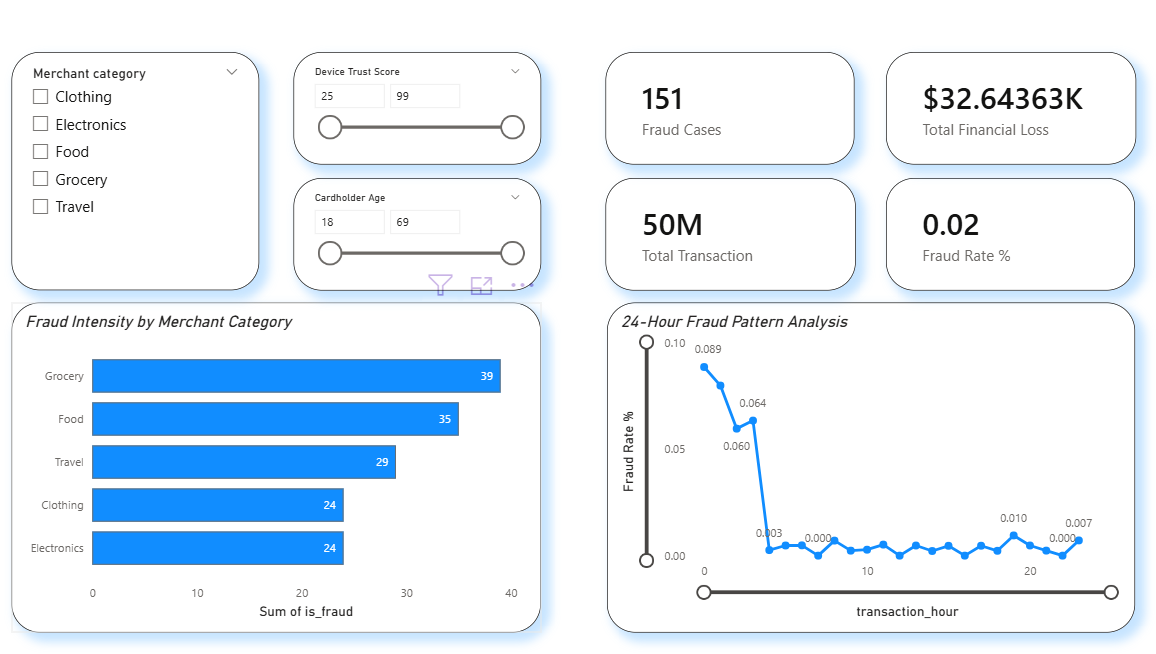

Layout of this report page (visuals, bound fields, positions):
{"tool":"powerbi","page":{"name":"Page 1","canvas":[1280,720],"ordinal":1},"visuals":[{"type":"cardVisual","fields":{"Data":["credit_card_fraud_10k.Fraud Cases"]},"box":[669.6,73.2,264,119.3],"z":0},{"type":"cardVisual","fields":{"Data":["credit_card_fraud_10k.Fraud Rate %"]},"box":[967.1,206.8,264,119.3],"z":1000},{"type":"clusteredBarChart","title":"Fraud Intensity by Merchant Category","fields":{"Category":["credit_card_fraud_10k.merchant_category"],"Y":["Sum(credit_card_fraud_10k.is_fraud)"]},"box":[39.8,338.8,561.5,349.9],"z":2000},{"type":"lineChart","title":"24-Hour Fraud Pattern Analysis","fields":{"Category":["credit_card_fraud_10k.transaction_hour"],"Y":["credit_card_fraud_10k.Fraud Rate %"]},"box":[671.2,338.8,559.9,349.9],"z":3000},{"type":"cardVisual","fields":{"Data":["Sum(credit_card_fraud_10k.transaction_id)"]},"box":[669.6,206.8,265.6,119.3],"z":4000},{"type":"slicer","fields":{"Values":["credit_card_fraud_10k.cardholder_age"]},"box":[338.8,206.8,262.5,119.3],"z":5000},{"type":"cardVisual","fields":{"Data":["Sum(credit_card_fraud_10k.Total Fraud Loss)"]},"box":[967.1,73.2,265.6,119.3],"z":6000},{"type":"slicer","fields":{"Values":["credit_card_fraud_10k.merchant_category"]},"box":[39.8,73.2,262.5,252.9],"z":7000},{"type":"slicer","fields":{"Values":["credit_card_fraud_10k.device_trust_score"]},"box":[338.8,73.2,262.5,119.3],"z":8000}]}

Visuals, with their boxes in screenshot pixels (x1, y1, x2, y2), scaled from the page's 1280x720 canvas onto the 1156x654 screenshot:
cardVisual - credit_card_fraud_10k.Fraud Cases: bbox(605, 66, 843, 175)
cardVisual - credit_card_fraud_10k.Fraud Rate %: bbox(873, 188, 1112, 296)
"Fraud Intensity by Merchant Category" clusteredBarChart: bbox(36, 308, 543, 626)
"24-Hour Fraud Pattern Analysis" lineChart: bbox(606, 308, 1112, 626)
cardVisual - Sum(credit_card_fraud_10k.transaction_id): bbox(605, 188, 845, 296)
slicer - credit_card_fraud_10k.cardholder_age: bbox(306, 188, 543, 296)
cardVisual - Sum(credit_card_fraud_10k.Total Fraud Loss): bbox(873, 66, 1113, 175)
slicer - credit_card_fraud_10k.merchant_category: bbox(36, 66, 273, 296)
slicer - credit_card_fraud_10k.device_trust_score: bbox(306, 66, 543, 175)
